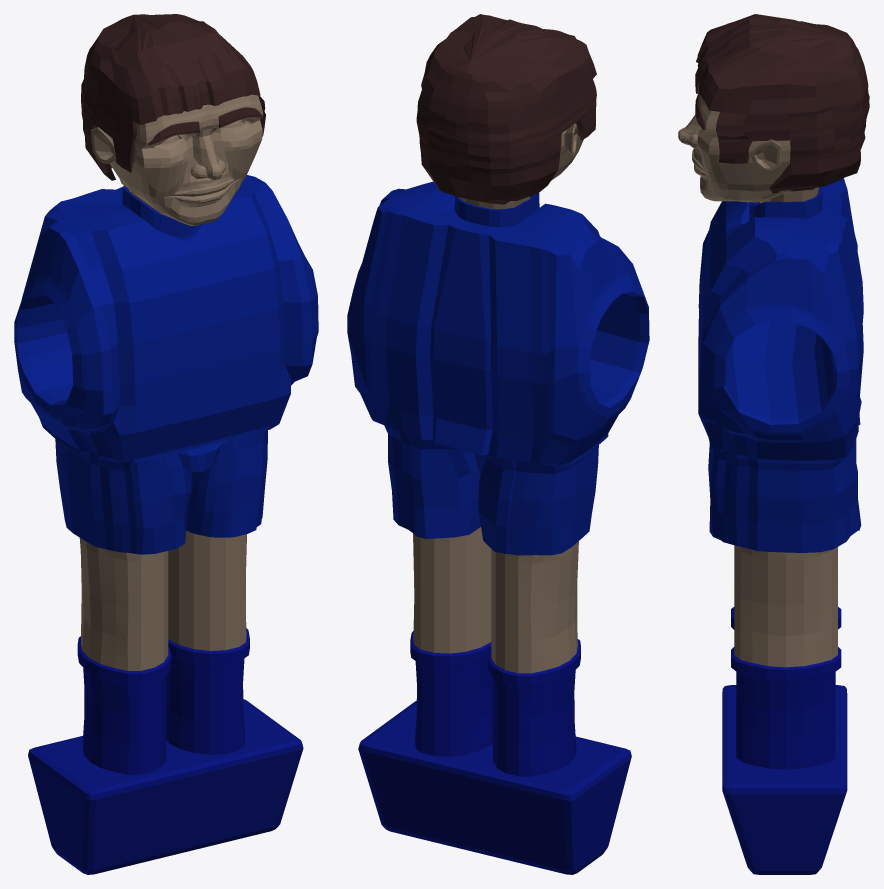
The model's file is foosball_player.glb.
The picture shows the model from 3 angles, left to right: view 1: azimuth 30°, elevation 25°; view 2: azimuth 150°, elevation 25°; view 3: azimuth 270°, elevation 25°; orthographic projection.
Visible parts, largest first — view 1: Object_2, Object_12, Object_3, Object_14, Object_11, Object_10, Object_9, Object_8, Object_7; view 2: Object_2, Object_3, Object_12, Object_11, Object_9, Object_10, Object_8, Object_14; view 3: Object_2, Object_3, Object_12, Object_9, Object_8, Object_14, Object_6.
Part boxes in pixels (<box>): Object_2: <box>14,175,318,554</box>; Object_12: <box>28,699,303,874</box>; Object_3: <box>81,14,265,180</box>; Object_14: <box>109,94,263,225</box>; Object_11: <box>79,538,168,670</box>; Object_10: <box>77,636,171,774</box>; Object_9: <box>168,530,246,650</box>; Object_8: <box>166,628,249,754</box>; Object_7: <box>91,127,115,163</box>; Object_2: <box>347,181,649,555</box>; Object_3: <box>416,14,596,204</box>; Object_12: <box>358,701,631,874</box>; Object_11: <box>491,541,578,673</box>; Object_9: <box>413,527,491,653</box>; Object_10: <box>488,639,580,776</box>; Object_8: <box>410,631,492,756</box>; Object_14: <box>460,134,583,209</box>; Object_2: <box>698,178,863,552</box>; Object_3: <box>696,14,869,193</box>; Object_12: <box>722,685,847,874</box>; Object_9: <box>734,545,837,667</box>; Object_8: <box>731,647,841,769</box>; Object_14: <box>678,83,819,203</box>; Object_6: <box>750,139,781,172</box>.
Bounding box in the file's own units: 2.32 × 7.38 × 1.59.
